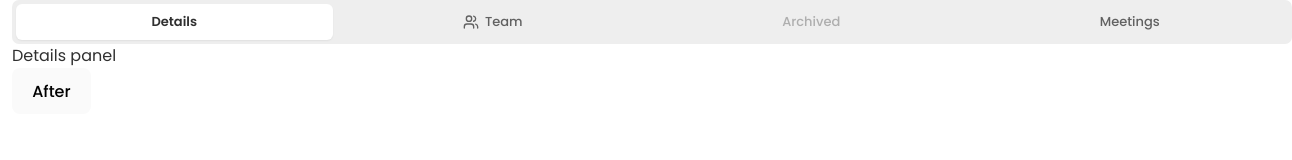
Tabs › a click selects a tab, and a click on the selected one reports nothing
Click the tab "Details" at (174, 22), box [16, 4, 332, 40]
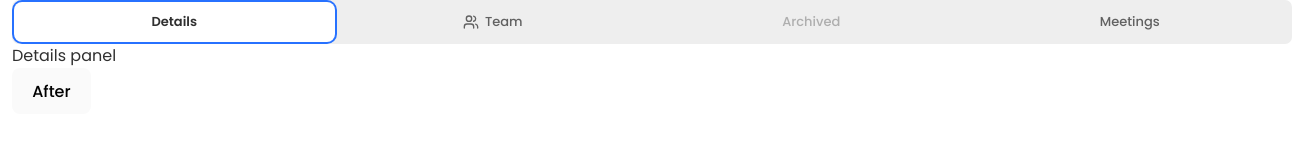
Click the tab "Team" at (493, 22), box [334, 4, 651, 40]
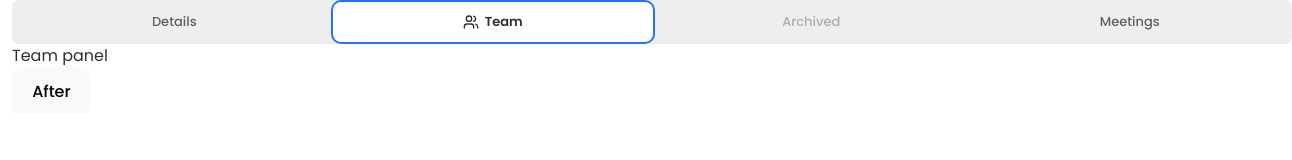
Result: the panel "Team" reads "Team panel" at [12, 44, 108, 67]
Result: the panel with id "ep-panel-details" is gone
